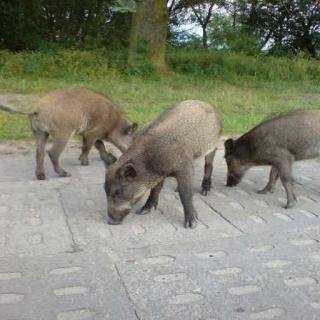Pig: (90, 91, 242, 240), (221, 97, 320, 229), (17, 72, 144, 159)
